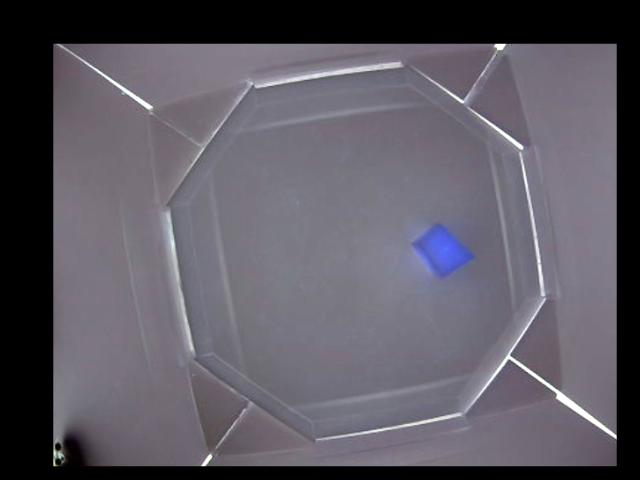Potato: (412, 222, 473, 277)
